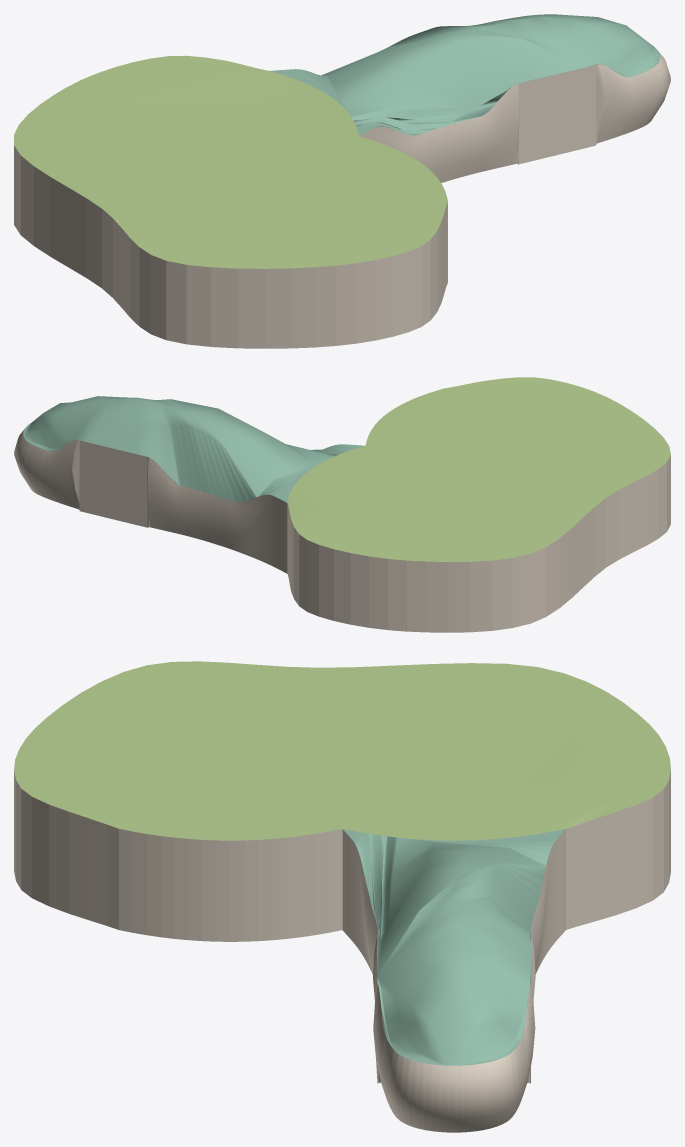
Rendered from single-source.glb.
3 views of the same model, one above another, from view 1: azimuth 30°, elevation 25°; view 2: azimuth 150°, elevation 25°; view 3: azimuth 270°, elevation 25° (orthographic). The views are drawn at different scales.
Visible parts, largest first — view 1: baseline/top, baseline/rounded-coast, seaward-south/top, seaward-south/rounded-coast, seaward-south/bank-connection-positive; view 2: baseline/top, baseline/rounded-coast, seaward-south/top, seaward-south/rounded-coast, seaward-south/bank-connection-negative; view 3: baseline/top, seaward-south/top, baseline/bank-north-seam, baseline/rounded-coast, seaward-south/rounded-coast.
Part boxes in pixels (<box>): baseline/top: <box>14,55,447,268</box>; baseline/rounded-coast: <box>14,145,447,348</box>; seaward-south/top: <box>270,14,660,135</box>; seaward-south/rounded-coast: <box>359,51,670,182</box>; seaward-south/bank-connection-positive: <box>518,65,595,164</box>; baseline/top: <box>287,377,670,561</box>; baseline/rounded-coast: <box>287,455,670,632</box>; seaward-south/top: <box>23,396,364,502</box>; seaward-south/rounded-coast: <box>14,429,287,573</box>; seaward-south/bank-connection-negative: <box>79,440,147,527</box>; baseline/top: <box>14,661,670,840</box>; seaward-south/top: <box>343,829,565,1065</box>; baseline/bank-north-seam: <box>119,829,342,941</box>; baseline/rounded-coast: <box>14,770,670,929</box>; seaward-south/rounded-coast: <box>342,829,565,1132</box>.
Bounding box in the file's own units: 8.09 × 1.42 × 5.88.
